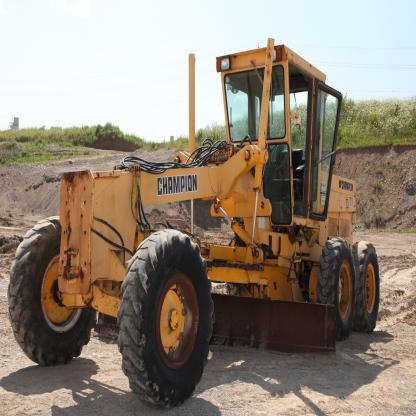bull_dozer/loader/grader: (11, 23, 381, 399)
